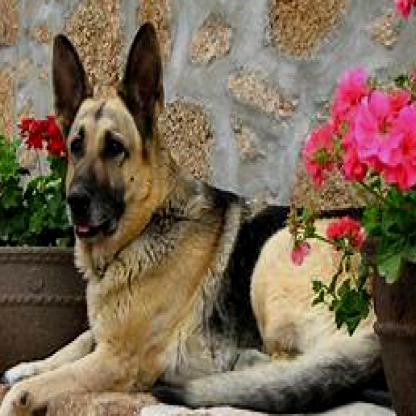dog: (0, 21, 382, 414)
